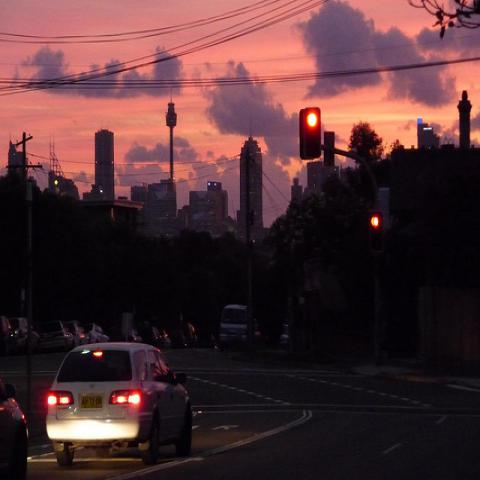car: (45, 344, 194, 468), (2, 326, 60, 436), (0, 376, 29, 479), (220, 304, 247, 343), (40, 320, 69, 354), (62, 320, 92, 348), (132, 324, 164, 349), (86, 322, 110, 343), (130, 329, 142, 343)
truck: (218, 303, 246, 356)
